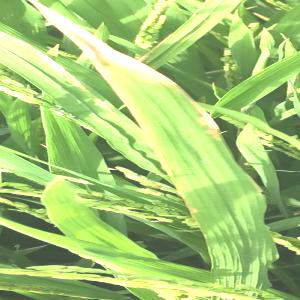2 BacterialBlight: (121, 60, 215, 217)
